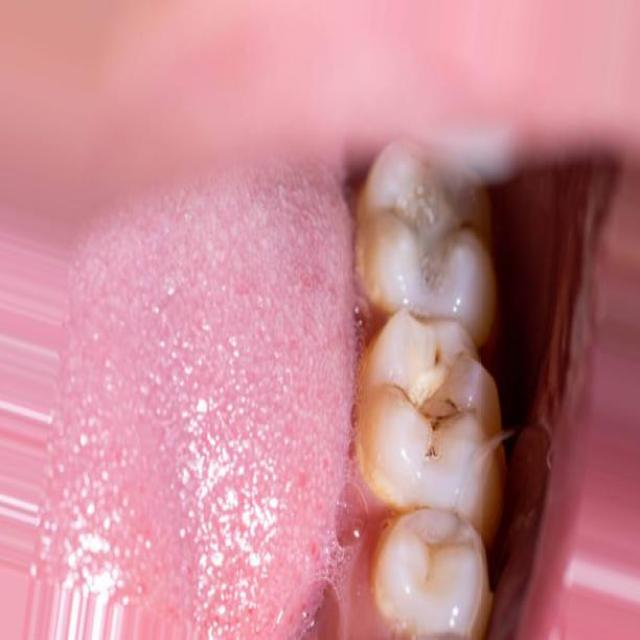caries: (373, 332, 479, 463)
